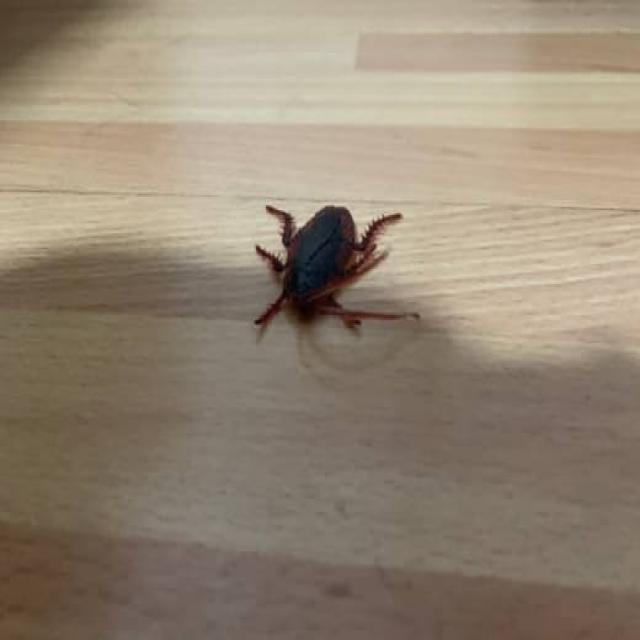Cockroach: (245, 169, 422, 350)
